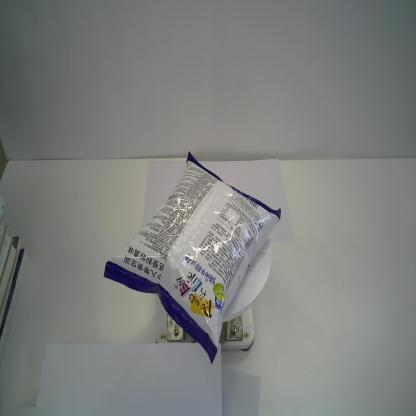Puffed Food: (101, 150, 283, 367)
